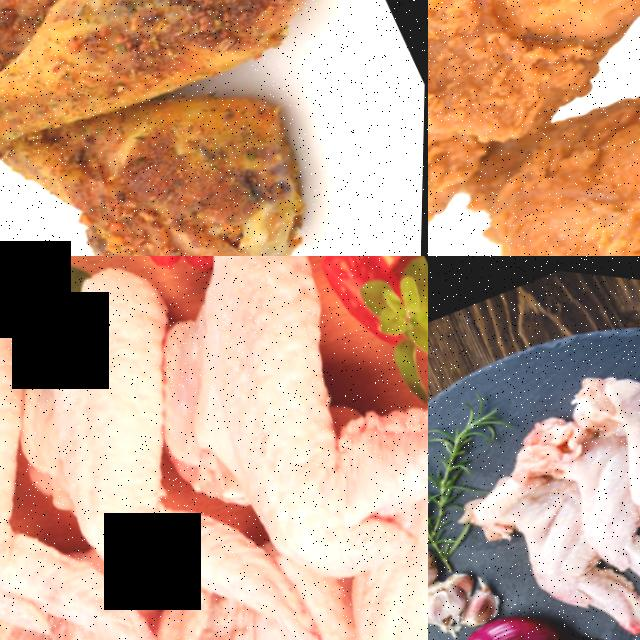chicken thigh: (0, 0, 331, 256)
chicken wing: (118, 256, 428, 582), (0, 269, 268, 640), (0, 310, 134, 640), (472, 439, 640, 640), (314, 437, 428, 640), (190, 551, 428, 640), (571, 326, 640, 567)
garlic: (428, 530, 449, 613)
onion: (440, 585, 578, 640)
